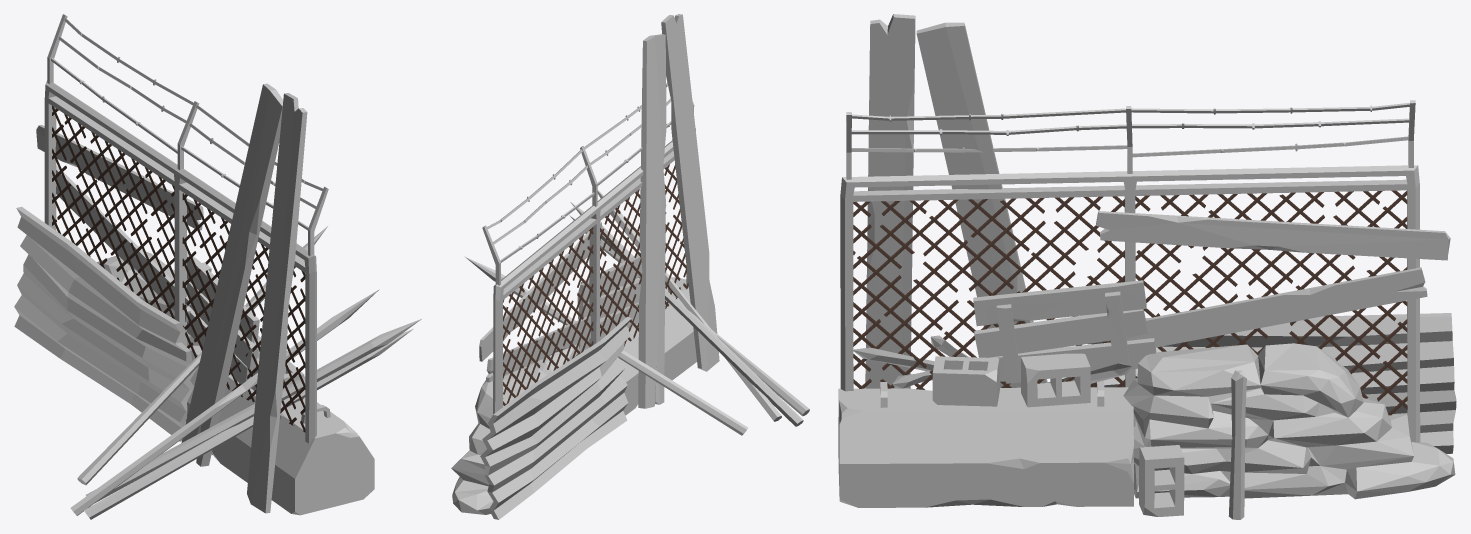
File: SM_Prop_Wall_Junk_08.fbx
3 views of the same model, side by side, from view 1: azimuth 30°, elevation 25°; view 2: azimuth 150°, elevation 25°; view 3: azimuth 270°, elevation 25° (orthographic). The views are drawn at different scales.
Visible parts, largest first — view 1: SM_Prop_Wall_Junk_08; view 2: SM_Prop_Wall_Junk_08; view 3: SM_Prop_Wall_Junk_08.
Boxes of the visible parts, x1,y1,x2,y2 form: SM_Prop_Wall_Junk_08: (14, 14, 421, 519); SM_Prop_Wall_Junk_08: (451, 14, 809, 519); SM_Prop_Wall_Junk_08: (838, 14, 1456, 519).
Bounding box in the file's own units: 296 × 358 × 420.
